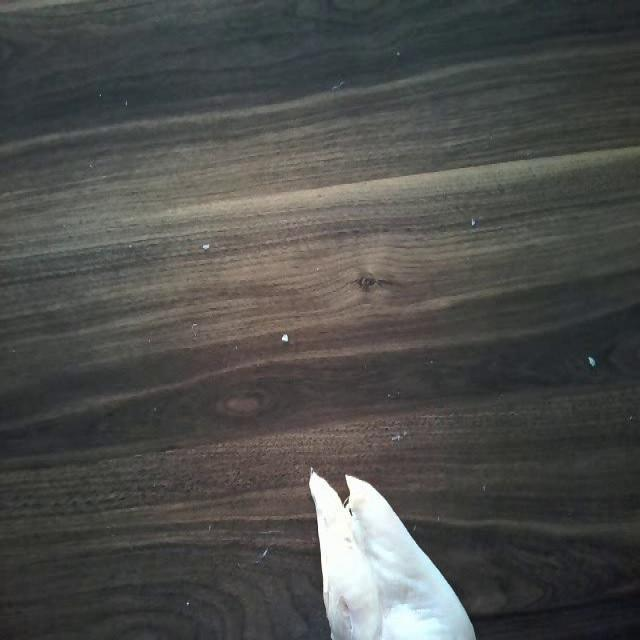breast: (300, 463, 472, 640)
